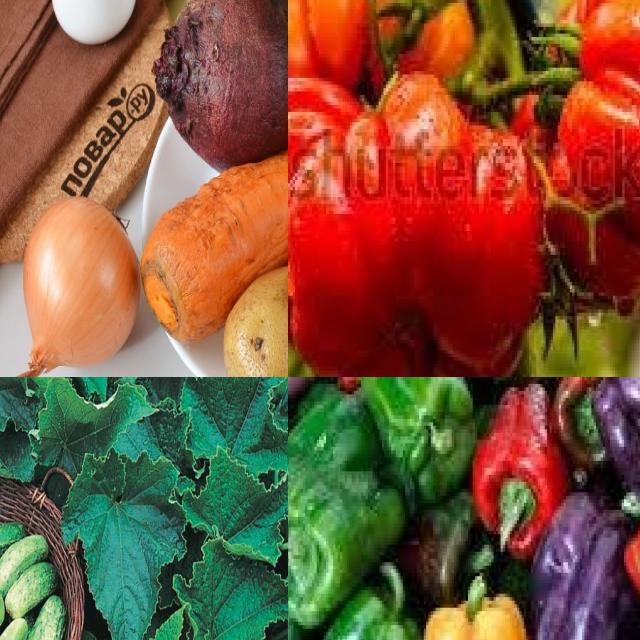beet: (155, 4, 289, 153)
bell_pepper: (289, 74, 563, 378), (509, 1, 640, 315), (350, 378, 487, 513), (289, 578, 430, 640)
carrot: (142, 202, 248, 332)
cucumber: (1, 527, 52, 596), (19, 593, 67, 640)
onion: (12, 192, 134, 362)
potato: (219, 273, 289, 378)
